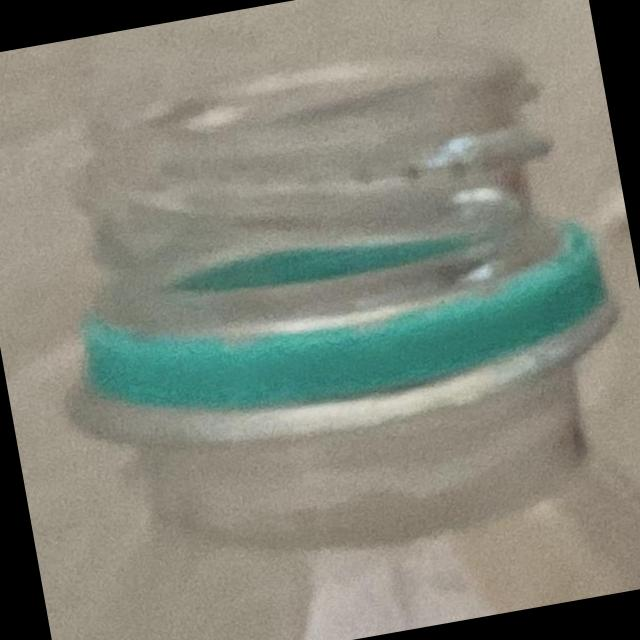open-cap: (8, 0, 608, 464)
